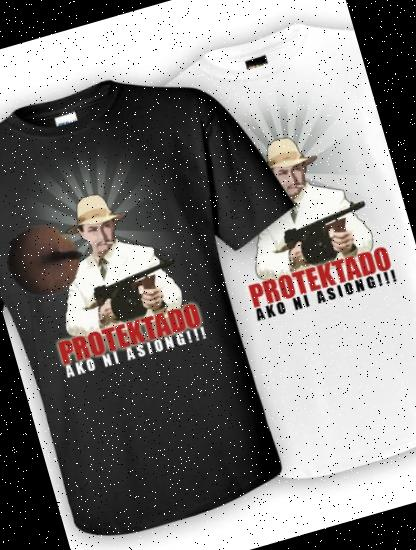Granadilla: (0, 214, 88, 306)
